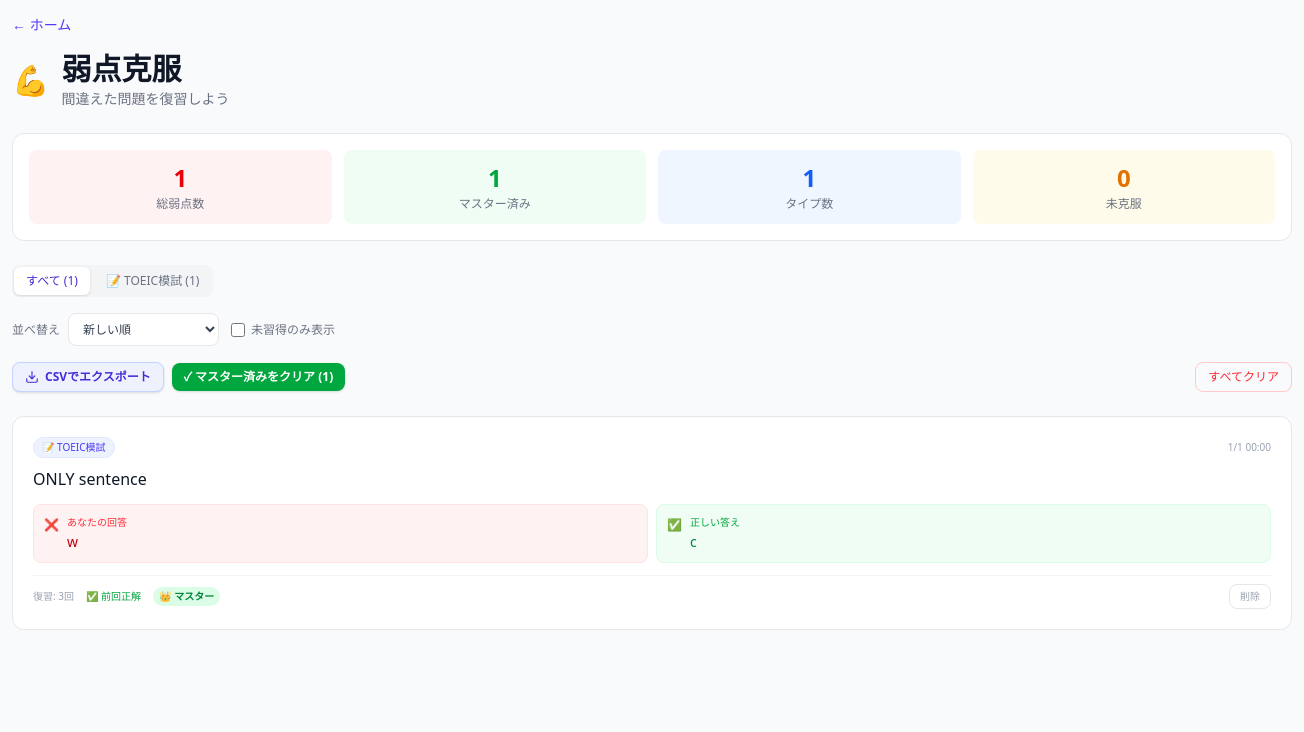
Test case: WeakPointsPage sort + unmastered filter › shows a dedicated empty state when filters match nothing
Click the checkbox labelled "未習得のみ表示". click: (238, 330)
box: x1=231 y1=322 x2=245 y2=336
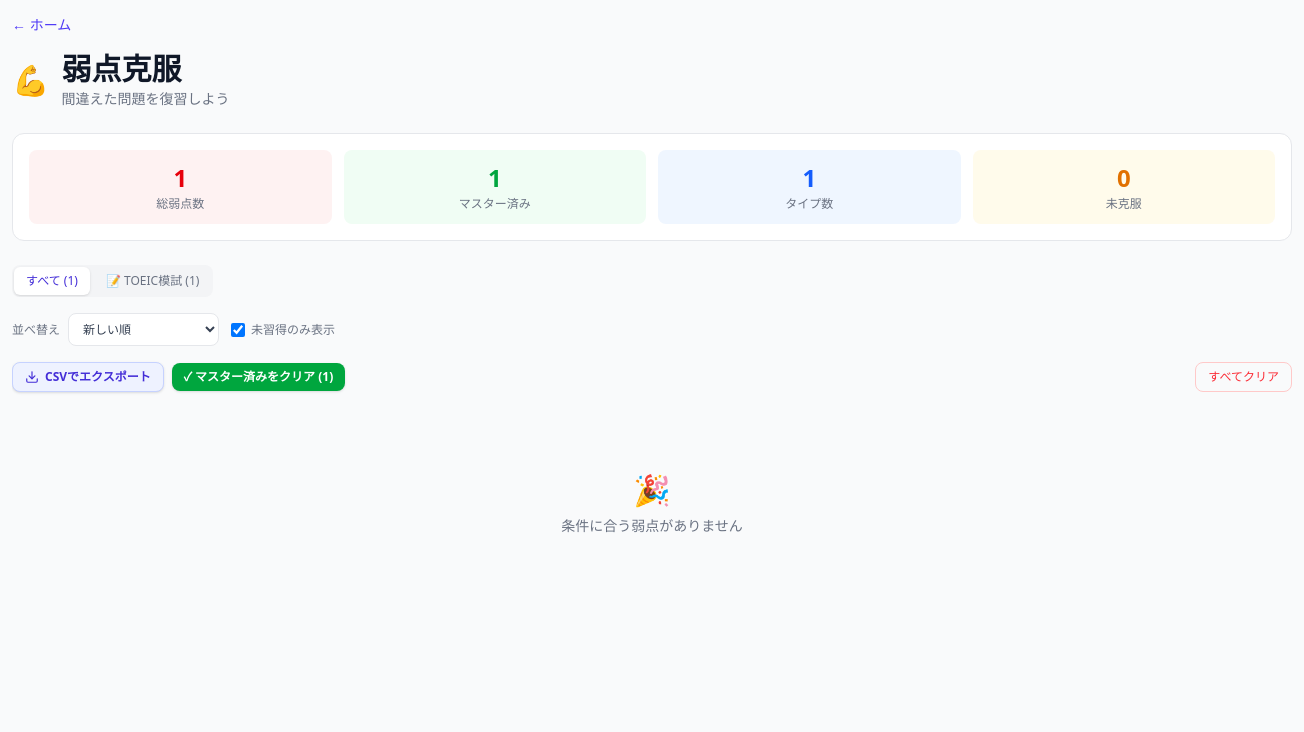
expect the text "条件に合う弱点がありません" is shown: met, box x1=561 y1=516 x2=743 y2=535
